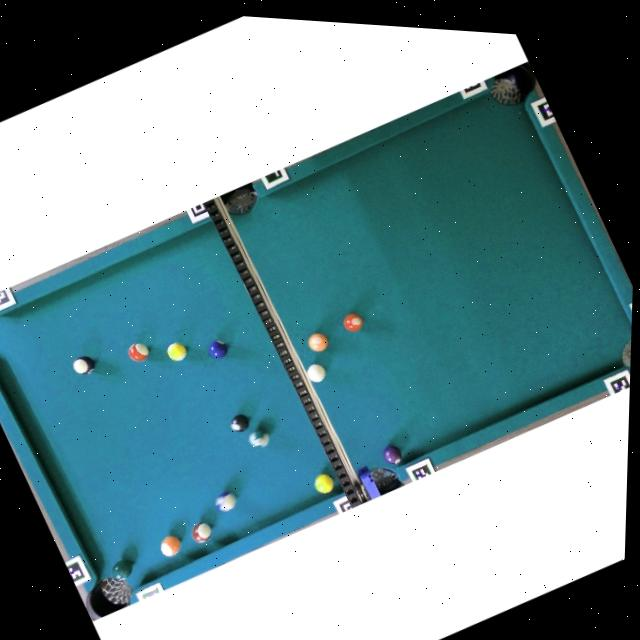cue ball: (303, 359, 329, 386)
other: (108, 555, 138, 585), (157, 531, 186, 560), (211, 487, 240, 516), (70, 351, 98, 379), (125, 339, 152, 366), (311, 470, 338, 497), (189, 519, 216, 546), (380, 441, 406, 469), (305, 328, 331, 356), (205, 335, 231, 362), (340, 309, 366, 335), (246, 426, 272, 452), (165, 339, 190, 365), (228, 410, 252, 436)
